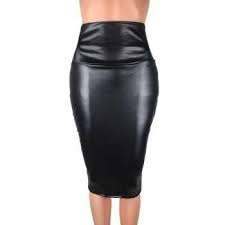S_skirt: (64, 19, 165, 207)
